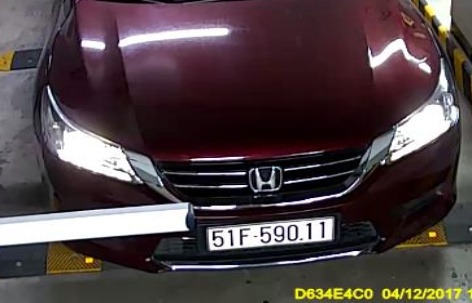plate: (208, 217, 335, 249)
